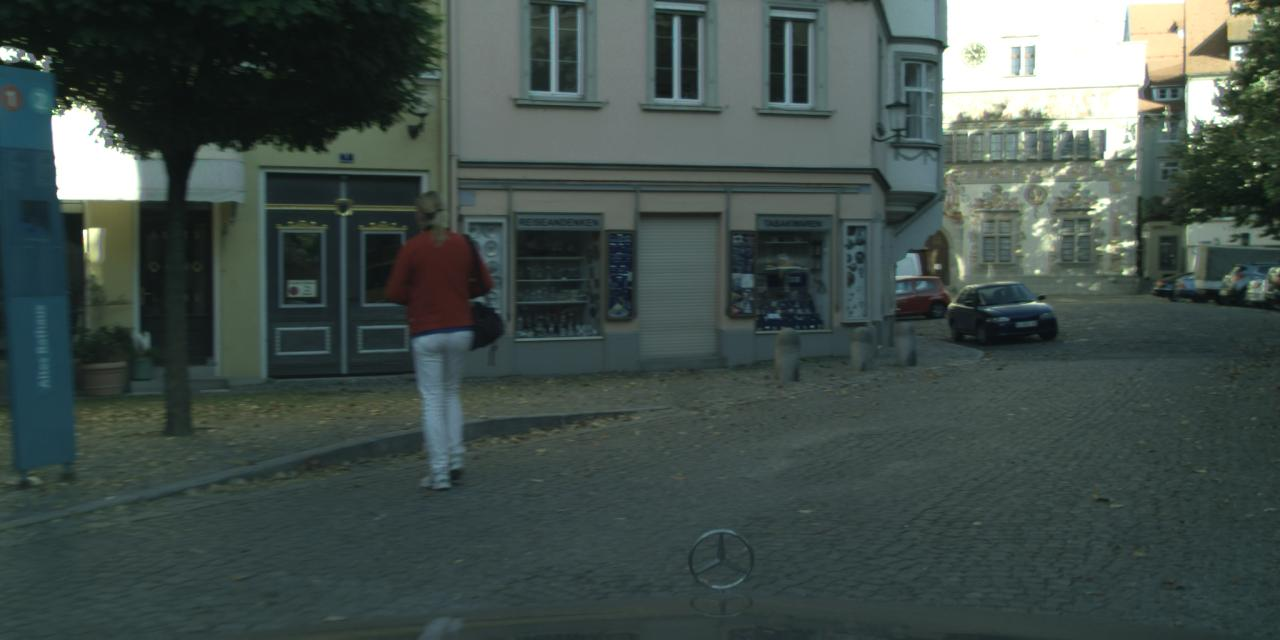ped: (376, 191, 496, 484)
